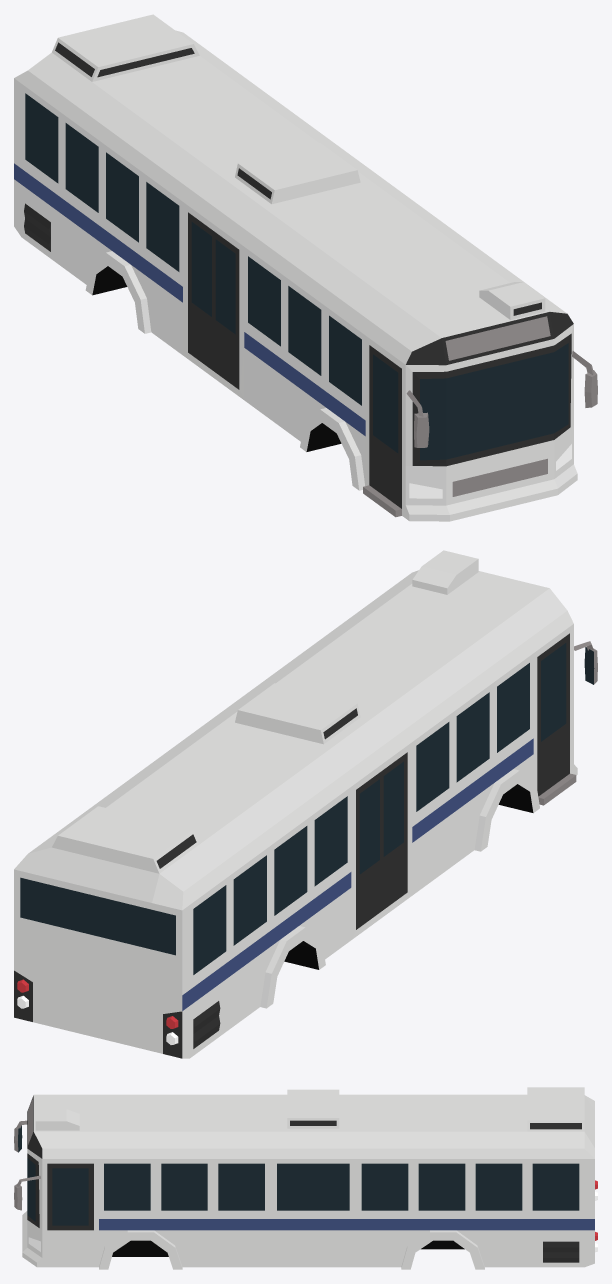
The model's file is bus-passenger-base.glb.
The picture shows the model from 3 angles, top to bottom: view 1: azimuth 30°, elevation 25°; view 2: azimuth 150°, elevation 25°; view 3: azimuth 270°, elevation 25°; orthographic projection. The views are drawn at different scales.
Visible parts, largest first — view 1: bus-passenger-base; view 2: bus-passenger-base; view 3: bus-passenger-base.
Boxes of the visible parts, bbox=[...] form: bus-passenger-base: bbox=[14, 14, 597, 521]; bus-passenger-base: bbox=[14, 550, 597, 1058]; bus-passenger-base: bbox=[14, 1087, 597, 1269].
Bounding box in the file's own units: 2.85 × 2.87 × 11.28.
1 material, 1 textured.
